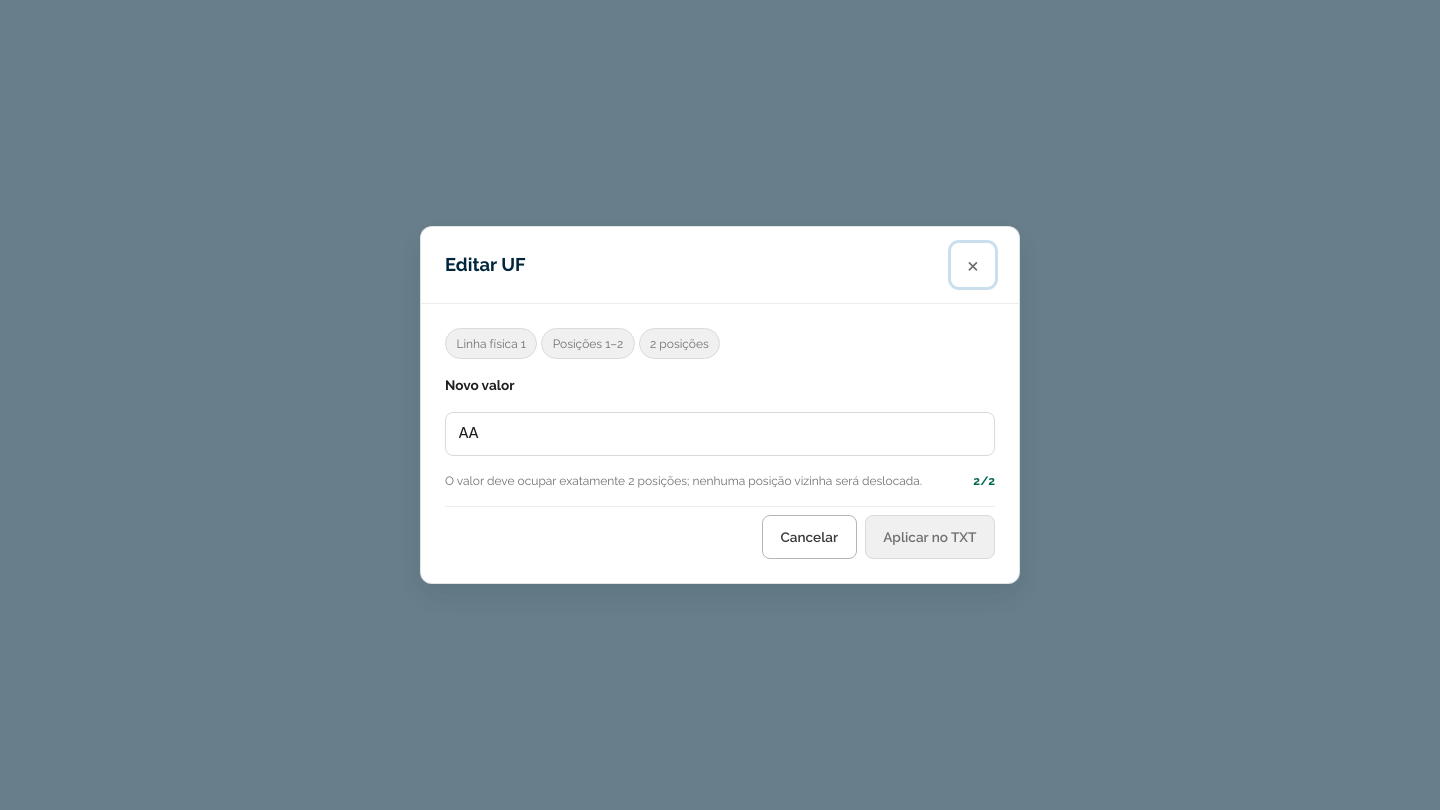
Test: FieldEditor › bloqueia valor que mudaria o tamanho em bytes no encoding original
Replace the text in the field labelled "Novo valor" with "áA": (720, 434) left=445, top=412, right=995, bottom=456
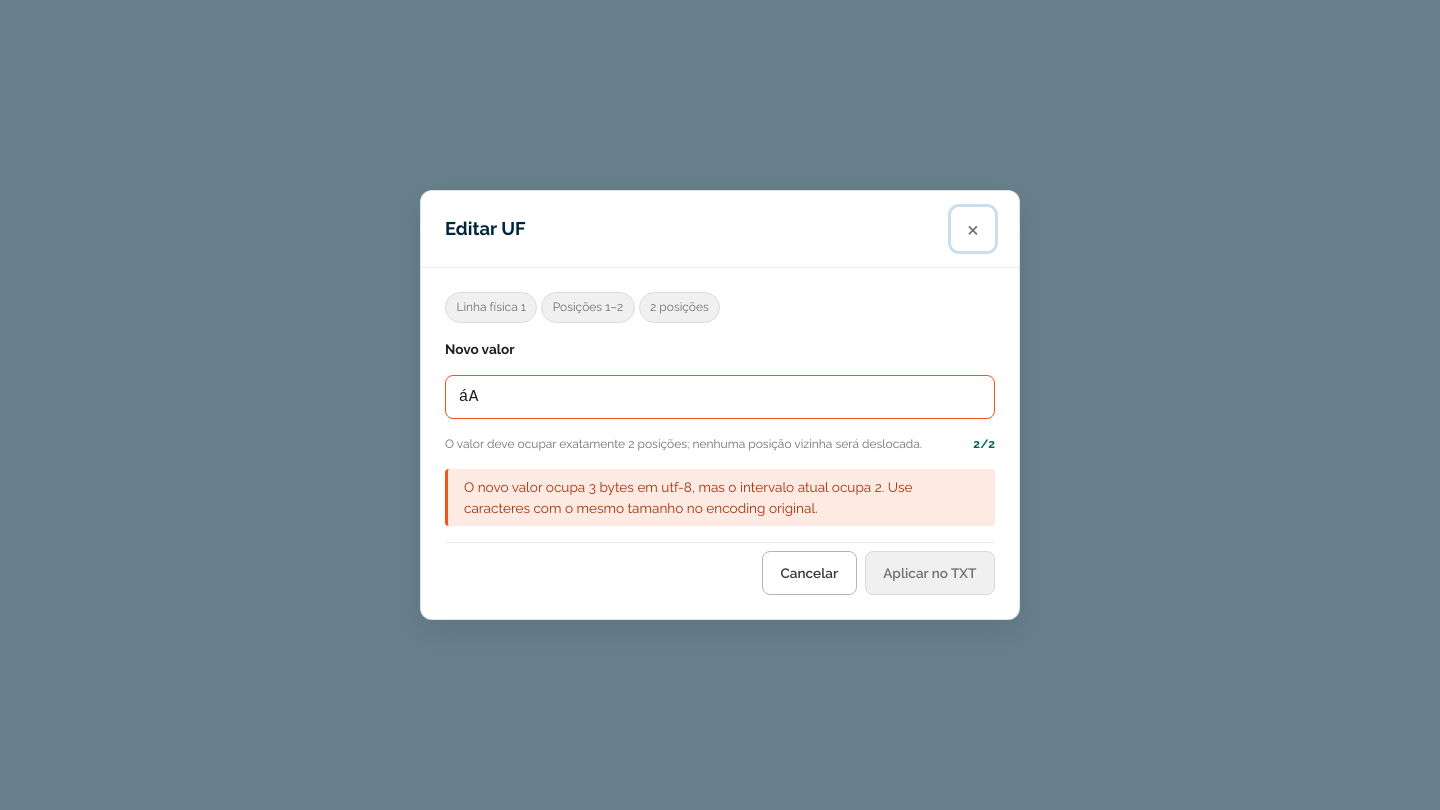
Expected: the button "Aplicar no TXT" is disabled, left=865, top=551, right=995, bottom=595
Expected: the message shows "mesmo tamanho no encoding original", left=464, top=479, right=912, bottom=516
